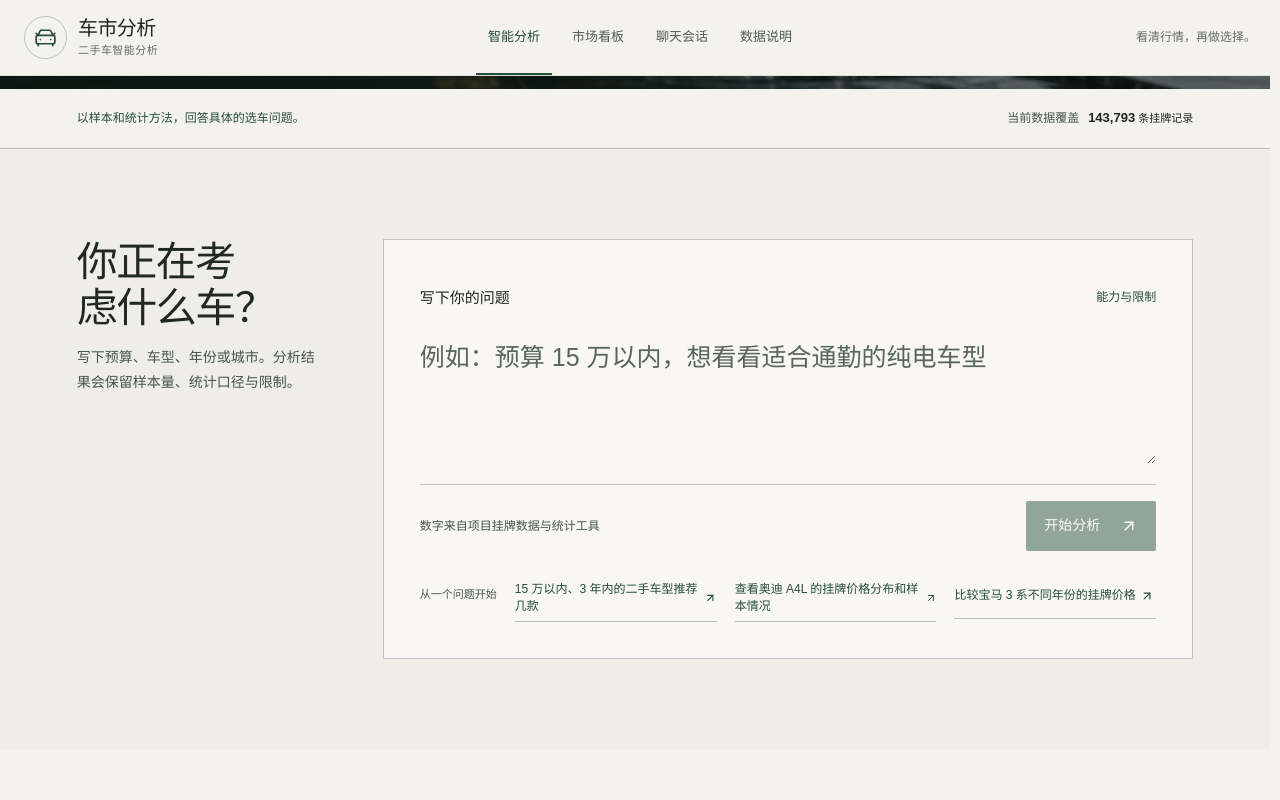
homepage to conversation › keeps the homepage and draft if creating a conversation fails
(page scrolled)
Type "A4L 行情" into the text box labelled "写下你的问题" at (788, 401), box [420,338,1156,464]
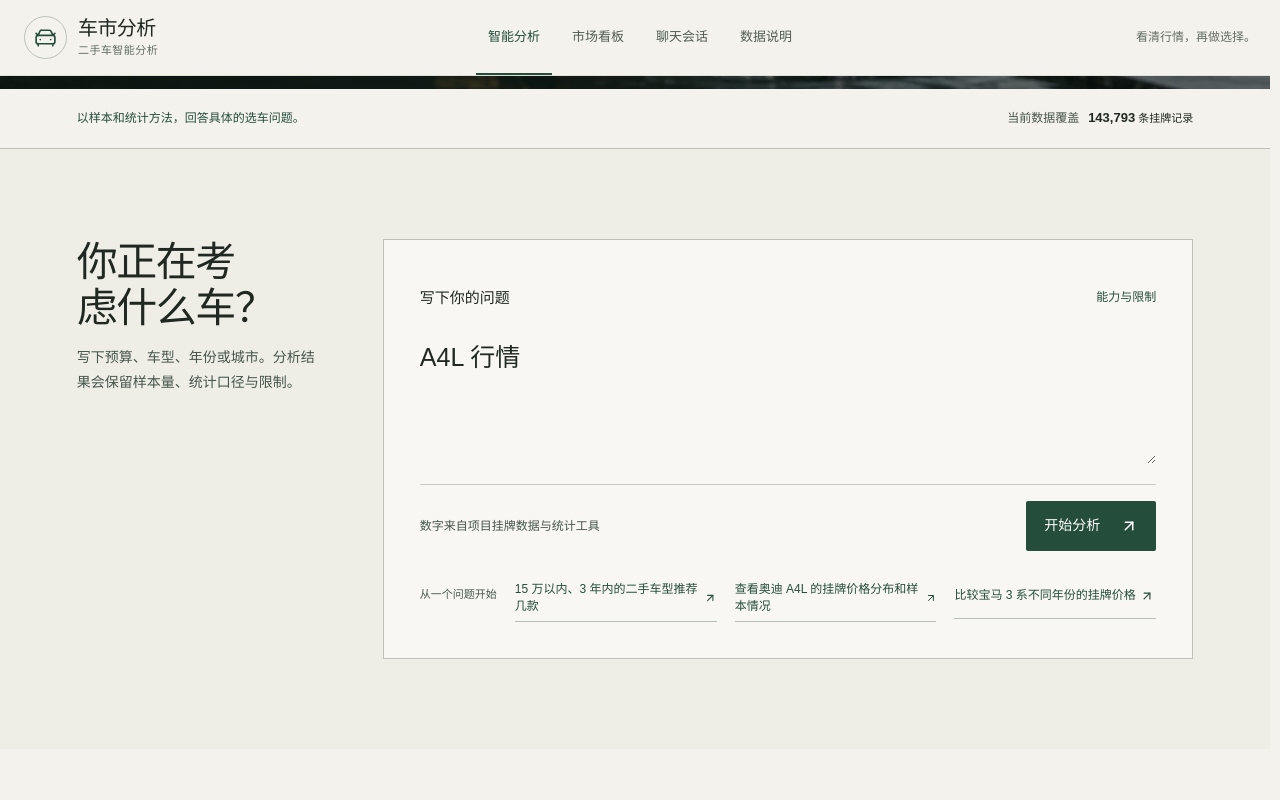
Submit the form with class "composer", box [383,239,1193,659]
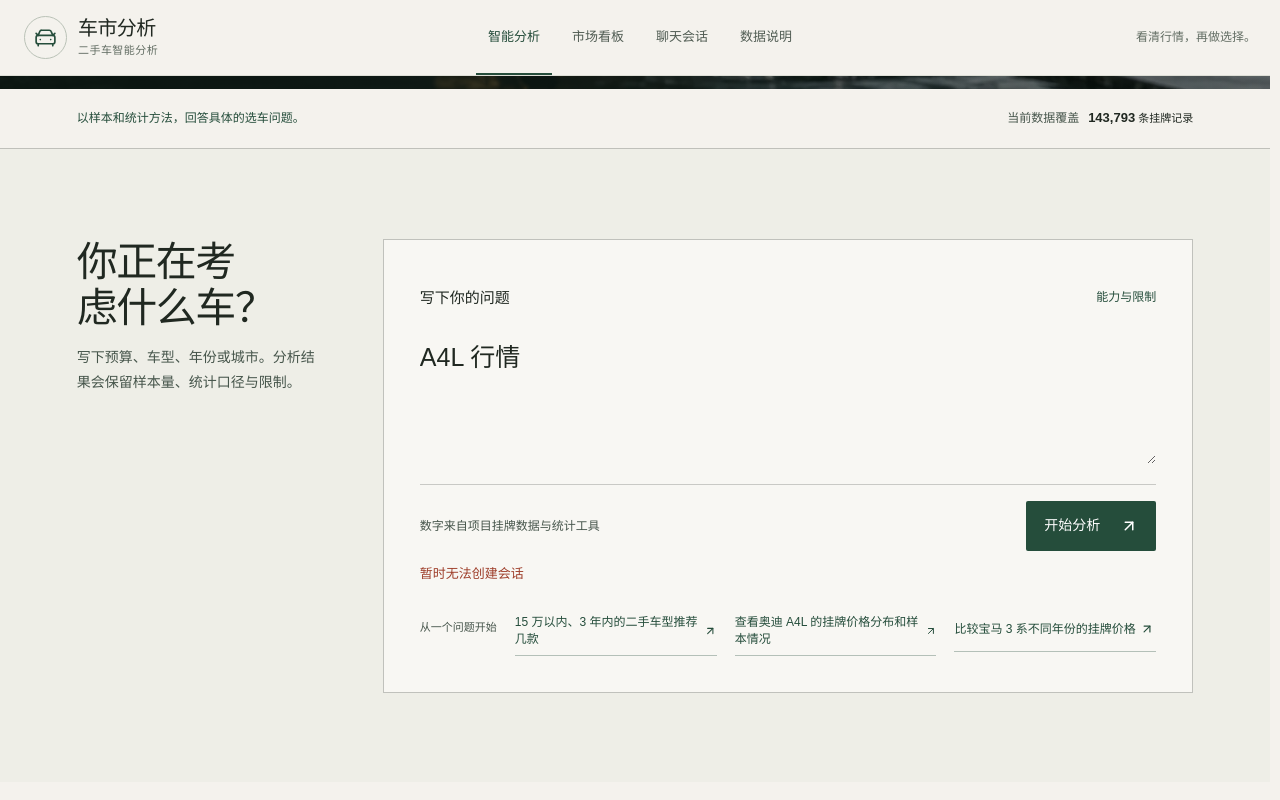
Now the message "暂时无法创建会话" is shown, box [420,566,524,581]
